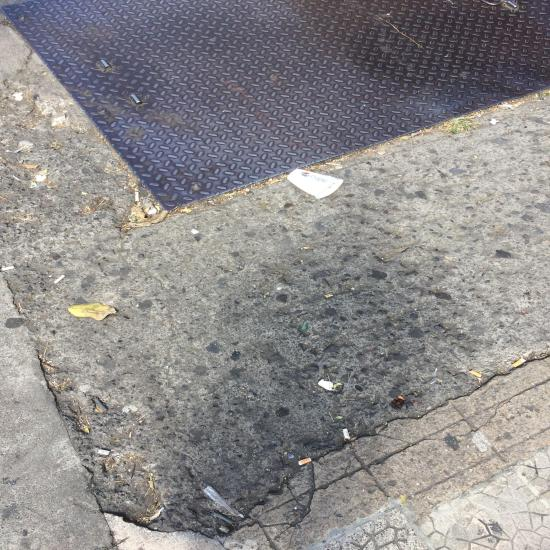Cigarette: (511, 358, 526, 368), (53, 275, 65, 284), (297, 458, 312, 465), (469, 370, 482, 378), (342, 428, 350, 439), (2, 266, 14, 271), (135, 192, 139, 202)
Other plastic bottle: (204, 486, 244, 518), (211, 511, 235, 524)
Paper cup: (288, 169, 343, 199)
Unlabeled litter: (318, 379, 333, 391)
